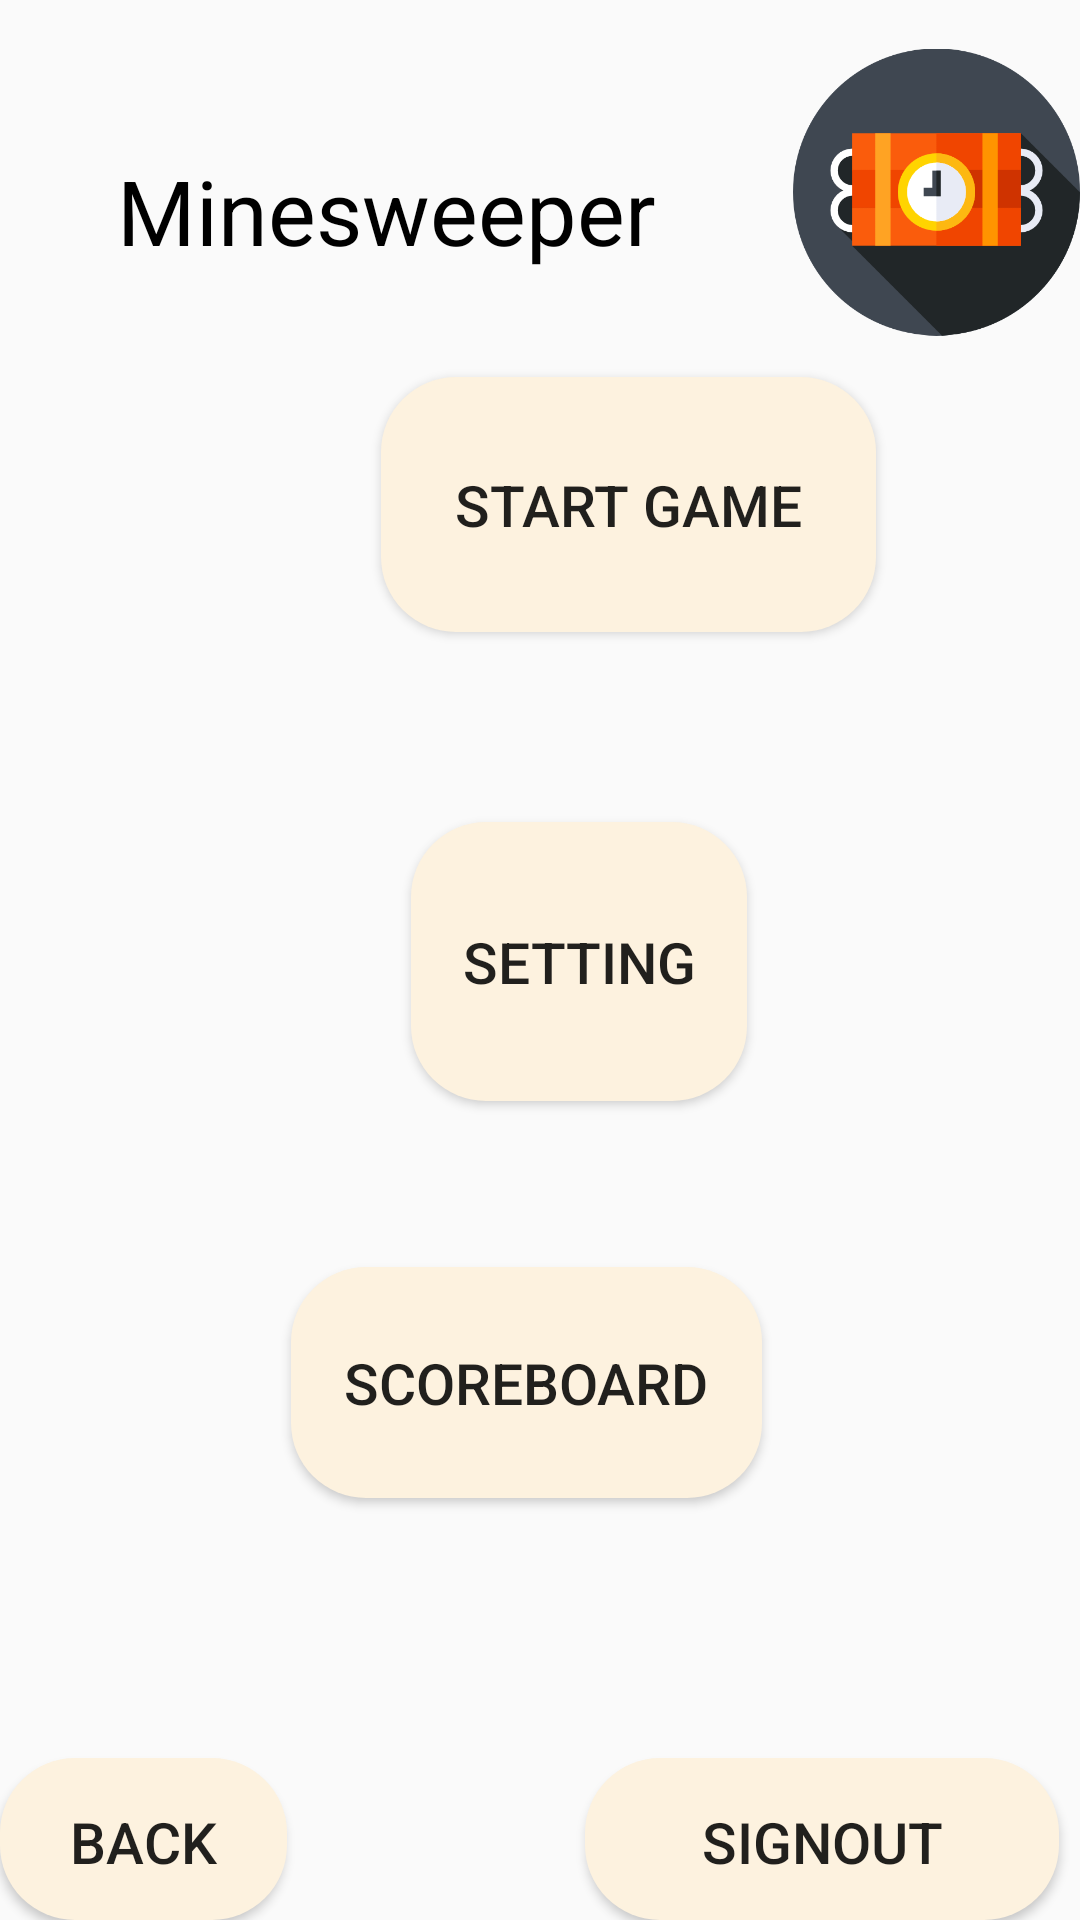

Named icons in this screenshot (1080*1920) and their bounding boxes, (x1,y1,x2,y2):
bomb start: (793,49,1080,336)
